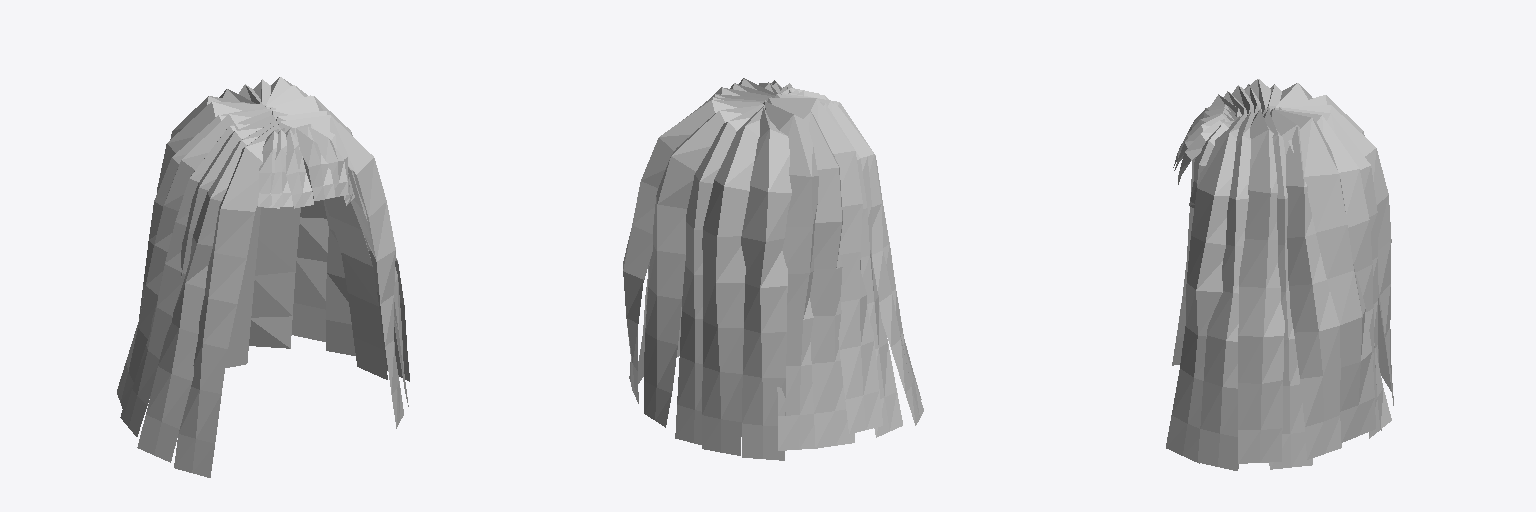
File: hair-obj.obj
3 renders of one model, left to right at view 1: azimuth 30°, elevation 25°; view 2: azimuth 150°, elevation 25°; view 3: azimuth 270°, elevation 25°, orthographic.
Visible parts, largest first — view 1: hair-obj; view 2: hair-obj; view 3: hair-obj.
Part boxes in pixels (x1,y1,x2,y2): hair-obj: (117,77,409,477); hair-obj: (623,78,923,460); hair-obj: (1166,79,1393,470).
Size of the model in its own units: 3.19 by 3.65 by 2.38.